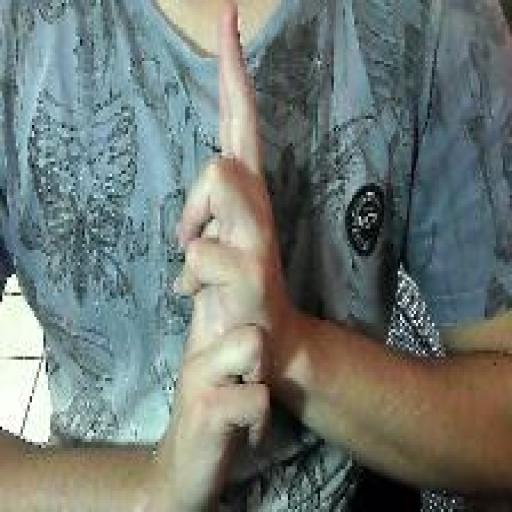Hitsuji -ram-: (171, 2, 279, 510)
